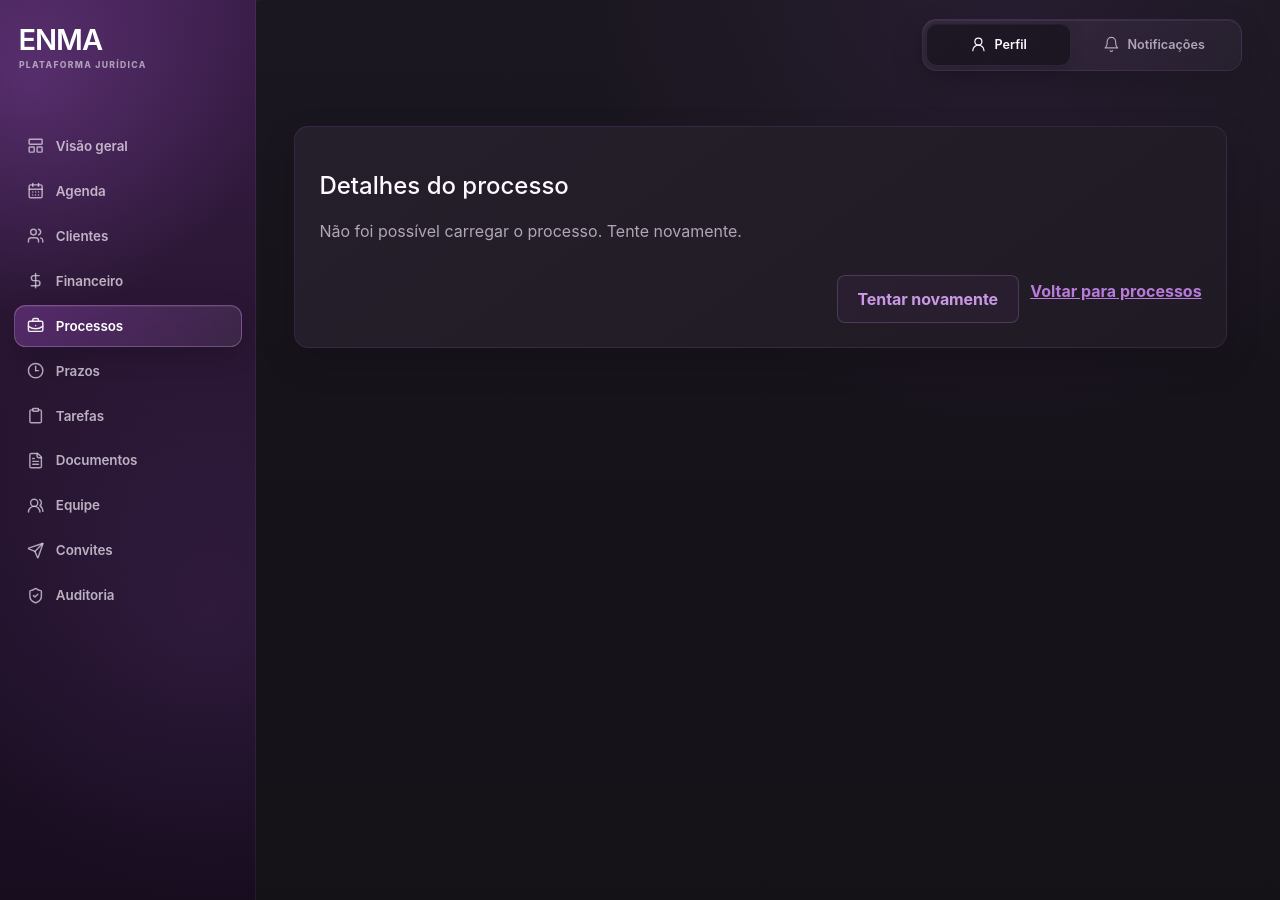
Processes D2 flow › ProcessDetail_NetworkFailure_RetriesOnlyCurrentContext
This screenshot has width=1280, height=900.
Expected: the message does not show "private network detail", [294, 126, 1227, 348]
Step 1. Click the button "Tentar novamente" → [928, 299], box [836, 275, 1019, 323]
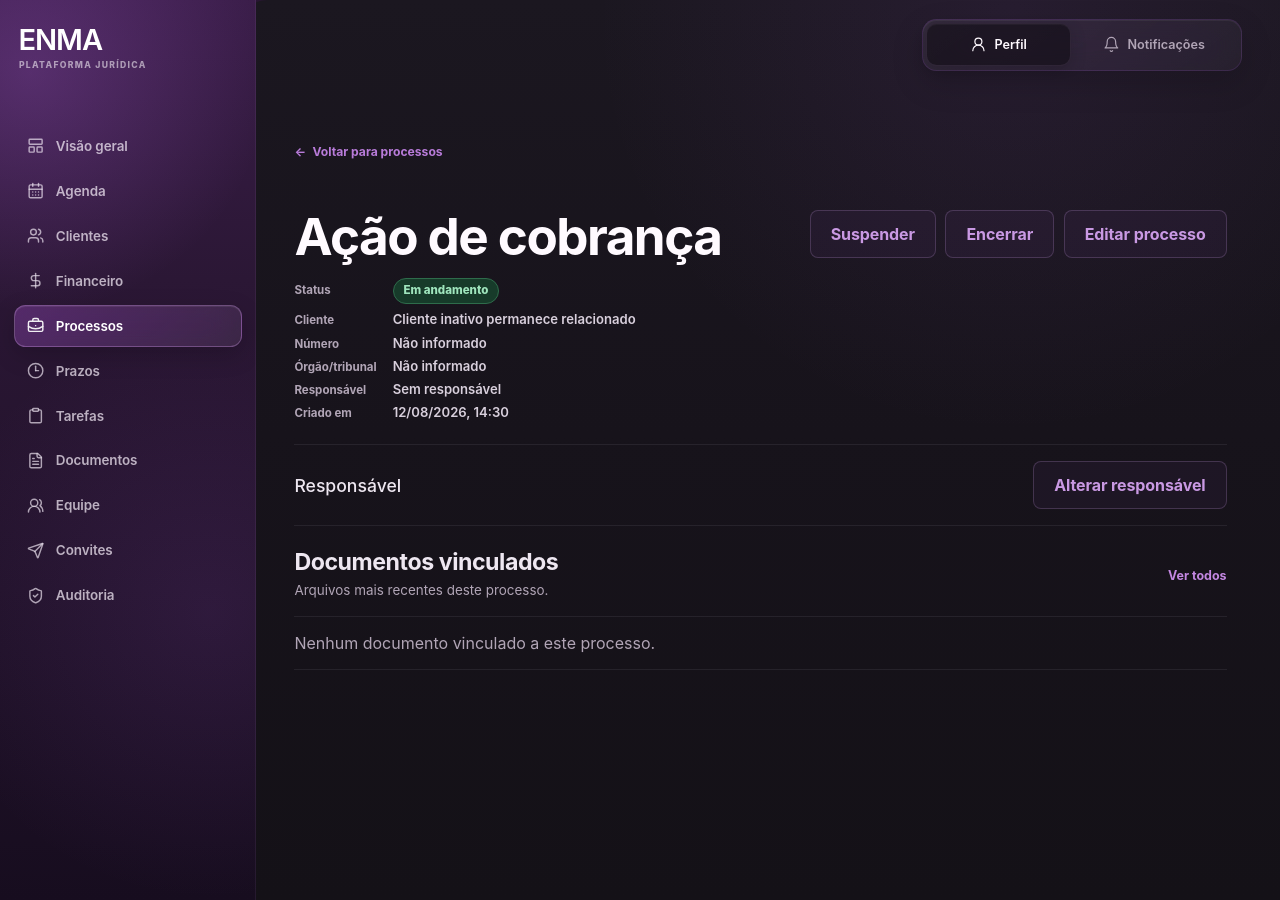
Now the heading "Ação de cobrança" is shown, box [294, 210, 721, 263]
